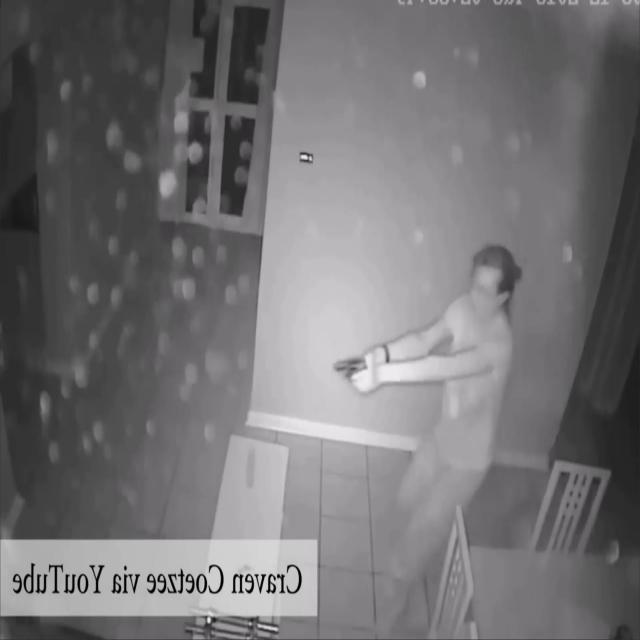Gun: (332, 354, 370, 389)
